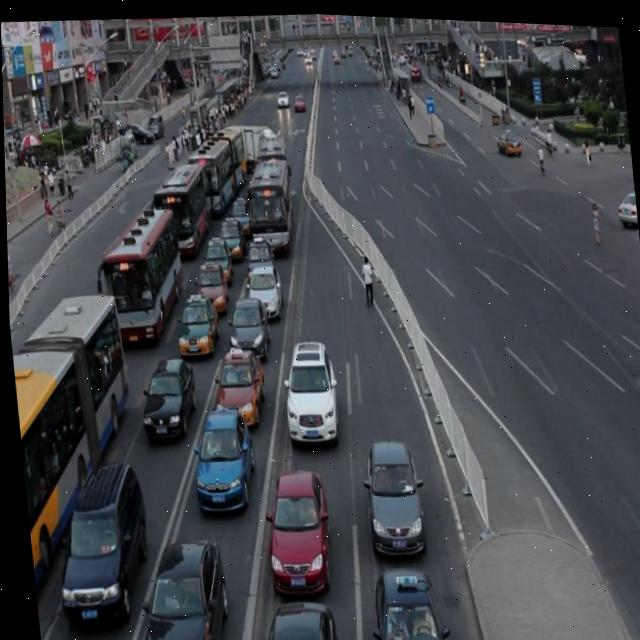bus: (222, 115, 280, 168)
car: (45, 460, 153, 626), (126, 532, 227, 640), (256, 460, 332, 594), (356, 434, 426, 553), (185, 405, 256, 513), (277, 334, 339, 442), (364, 564, 448, 640), (135, 353, 198, 439), (208, 339, 266, 427), (247, 592, 337, 640), (171, 288, 219, 353), (222, 293, 269, 358), (242, 259, 283, 318), (188, 255, 227, 311), (198, 231, 233, 281), (240, 233, 274, 280), (213, 213, 245, 259), (224, 194, 253, 235), (493, 121, 520, 154), (613, 183, 637, 219)
van: (7, 290, 147, 613), (88, 204, 186, 346), (146, 158, 213, 258), (183, 123, 251, 216), (239, 151, 297, 253), (252, 129, 292, 192)
